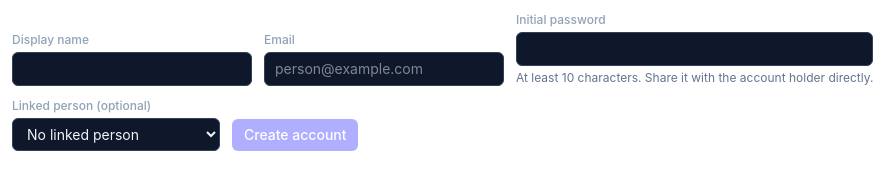
it: CreateUserForm › keeps submit disabled until name, email, and a 10+ char password are present
This screenshot has width=894, height=172.
Expected: the button "Create account" is disabled, [232,119,358,151]
Type "New Person" into the field labelled "Display name".
click(132, 69); type("New Person")  # box [12,52,252,86]
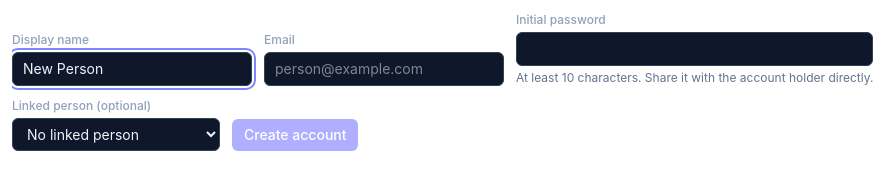
Type "new@acme.test" into the field labelled "Email".
click(384, 69); type("new@acme.test")  # box [264,52,504,86]
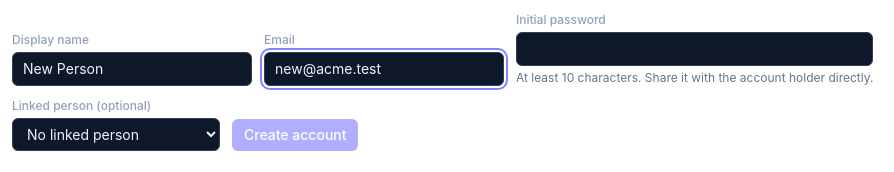
Type "short" into the password field labelled "Initial password".
click(695, 49); type("short")  # box [516,32,873,66]
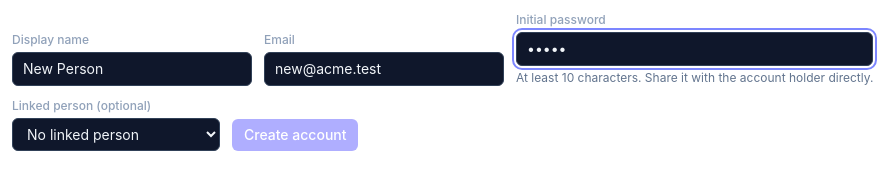
Expected: the button "Create account" is disabled, [232,119,358,151]
Type "enough123" into the password field labelled "Initial password".
click(695, 49); type("enough123")  # box [516,32,873,66]
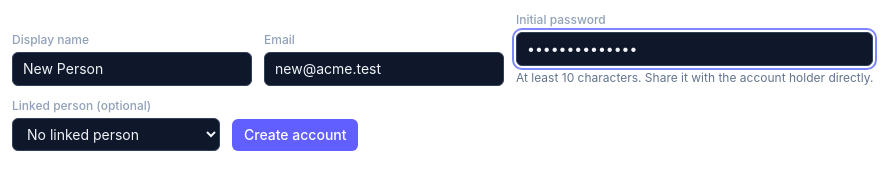
Expected: the button "Create account" is enabled, [232,119,358,151]
